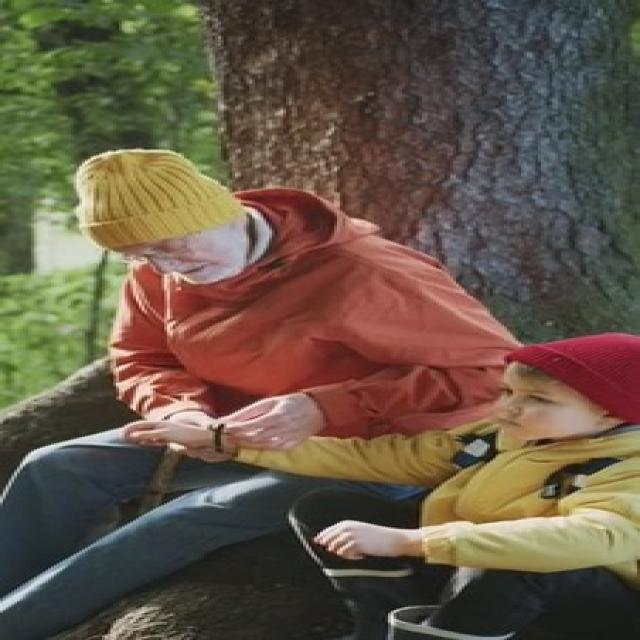Jacket_Wearer: (53, 217, 513, 437)
Person: (71, 138, 488, 523)
